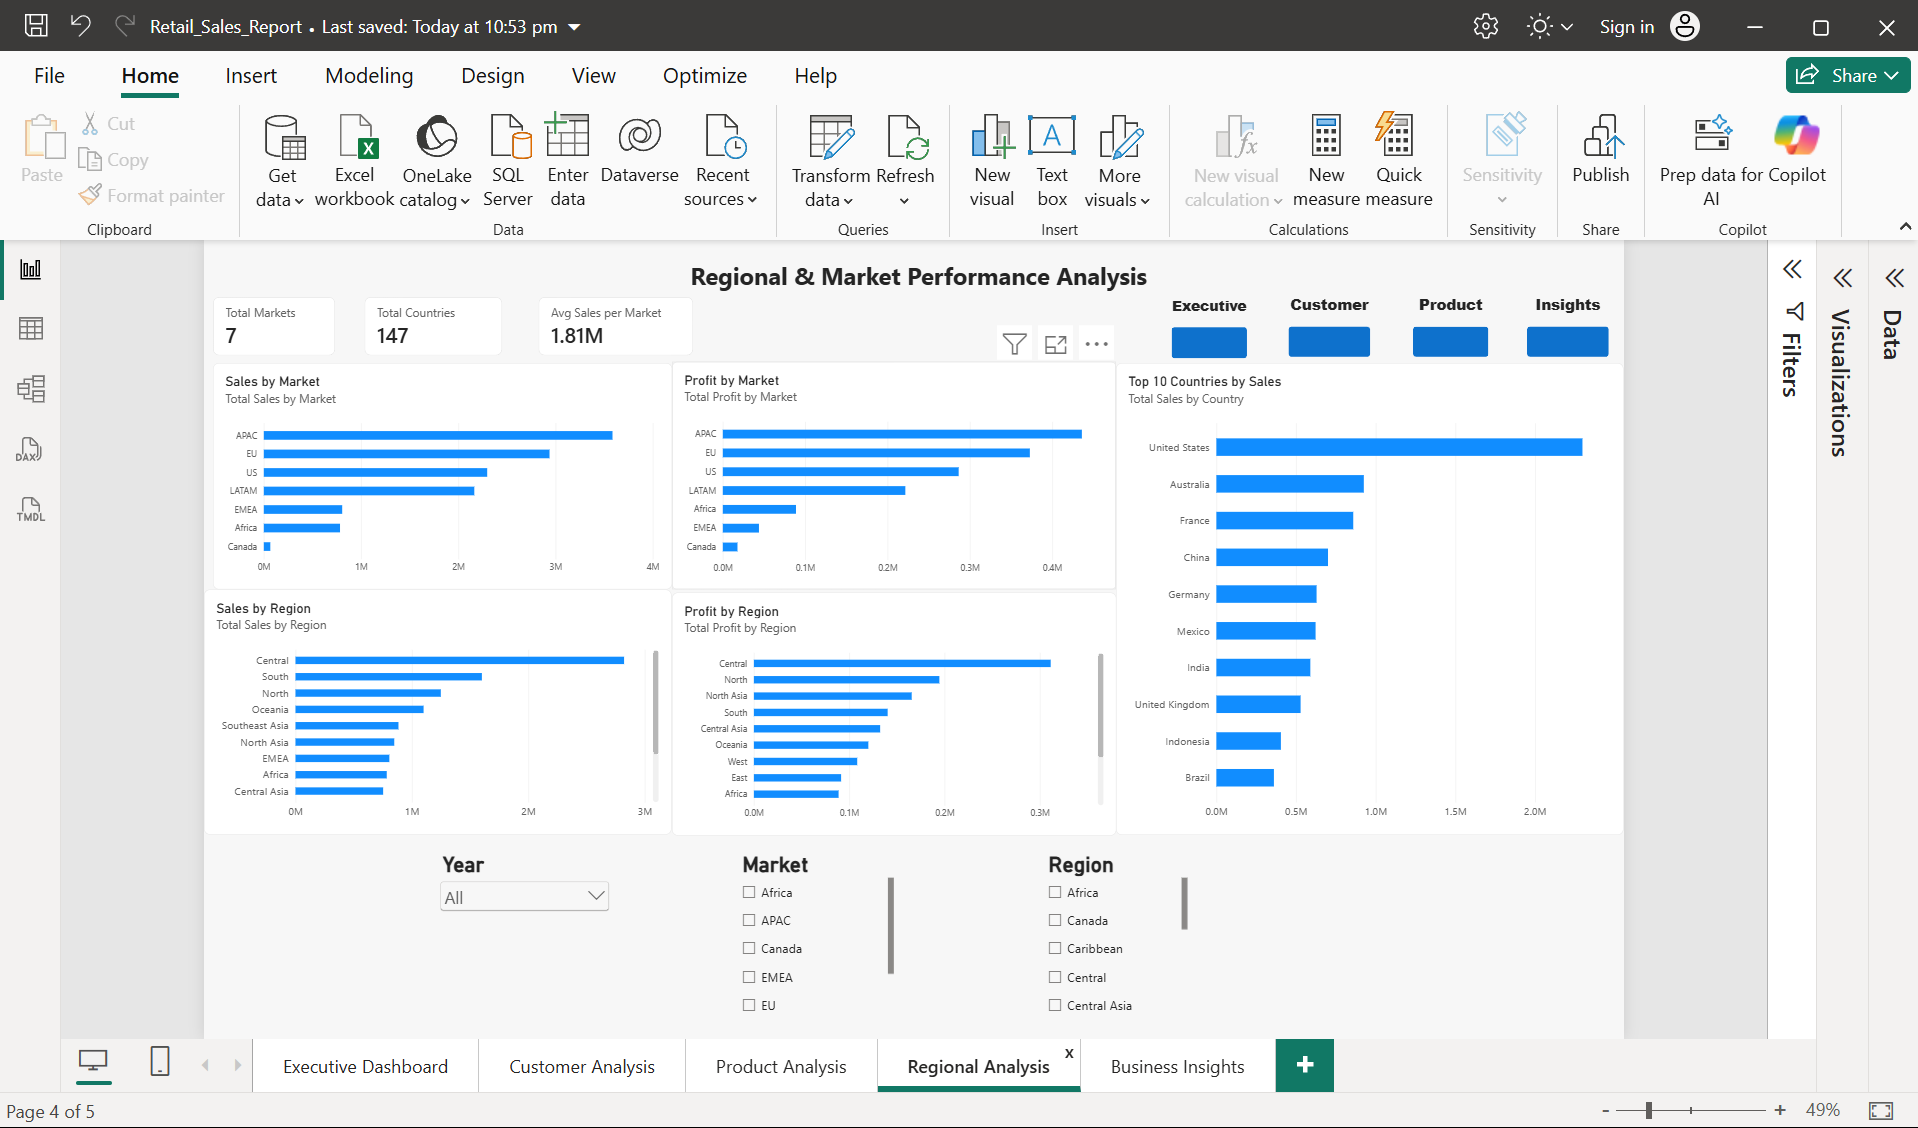

The page's visual inventory and layout, read from the dashboard file:
{"tool":"powerbi","page":{"name":"Regional Analysis","canvas":[1920,1080],"ordinal":3},"visuals":[{"type":"textbox","box":[11.3,25.5,1907.7,99.2],"z":0},{"type":"cardVisual","fields":{"Data":["Sheet1.Total Markets"]},"box":[11.7,77,165.6,79.3],"z":1000},{"type":"cardVisual","fields":{"Data":["Sheet1.Total Countries"]},"box":[216.9,77,186.6,79.3],"z":2000},{"type":"cardVisual","fields":{"Data":["Sheet1.Avg Sales per Market"]},"box":[452.4,77,209.9,79.3],"z":3000},{"type":"clusteredBarChart","title":"Sales by Market","fields":{"Category":["Sheet1.Market"],"Y":["Sheet1.Total Sales"]},"box":[11.3,167.2,620.8,306.1],"z":4000},{"type":"clusteredBarChart","title":"Profit by Market","fields":{"Category":["Sheet1.Market"],"Y":["Sheet1.Total Profit"]},"box":[632.1,164.4,600.9,309],"z":5000},{"type":"clusteredBarChart","title":"Sales by Region","fields":{"Category":["Sheet1.Region"],"Y":["Sheet1.Total Sales"]},"box":[0,473.4,632.1,331.7],"z":6000},{"type":"clusteredBarChart","title":"Profit by Region","fields":{"Category":["Sheet1.Region"],"Y":["Sheet1.Total Profit"]},"box":[632.1,476.2,600.9,328.8],"z":7000},{"type":"clusteredBarChart","title":"Top 10 Countries by Sales","fields":{"Category":["Sheet1.Country"],"Y":["Sheet1.Total Sales"]},"box":[1233.1,167.2,686,637.8],"z":8000},{"type":"slicer","fields":{"Values":["Sheet1.Year"]},"box":[314.6,827.7,238.1,221.1],"z":9000},{"type":"slicer","fields":{"Values":["Sheet1.Market"]},"box":[720,827.7,212.6,221.1],"z":10000},{"type":"slicer","fields":{"Values":["Sheet1.Region"]},"box":[1133.9,827.7,196,221],"z":11000},{"type":"actionButton","title":"Insights","box":[1788.6,72.3,110.6,85],"z":12000},{"type":"actionButton","title":"Product","box":[1634.7,72.3,102,85],"z":13000},{"type":"actionButton","title":"Customer","box":[1466.8,72.3,110.6,85],"z":14000},{"type":"actionButton","title":"Executive","box":[1308.3,74.6,102,85],"z":15000}]}

Visuals, with their boxes on the page's 1920x1080 design canvas (x1, y1, x2, y2). These are canvas units, not pixel positions in the 1918x1128 screenshot, which may show the page scaled, cropped or inside an application window:
textbox: x1=11, y1=26, x2=1919, y2=125
cardVisual - Sheet1.Total Markets: x1=12, y1=77, x2=177, y2=156
cardVisual - Sheet1.Total Countries: x1=217, y1=77, x2=404, y2=156
cardVisual - Sheet1.Avg Sales per Market: x1=452, y1=77, x2=662, y2=156
"Sales by Market" clusteredBarChart: x1=11, y1=167, x2=632, y2=473
"Profit by Market" clusteredBarChart: x1=632, y1=164, x2=1233, y2=473
"Sales by Region" clusteredBarChart: x1=0, y1=473, x2=632, y2=805
"Profit by Region" clusteredBarChart: x1=632, y1=476, x2=1233, y2=805
"Top 10 Countries by Sales" clusteredBarChart: x1=1233, y1=167, x2=1919, y2=805
slicer - Sheet1.Year: x1=315, y1=828, x2=553, y2=1049
slicer - Sheet1.Market: x1=720, y1=828, x2=933, y2=1049
slicer - Sheet1.Region: x1=1134, y1=828, x2=1330, y2=1049
"Insights" actionButton: x1=1789, y1=72, x2=1899, y2=157
"Product" actionButton: x1=1635, y1=72, x2=1737, y2=157
"Customer" actionButton: x1=1467, y1=72, x2=1577, y2=157
"Executive" actionButton: x1=1308, y1=75, x2=1410, y2=160
